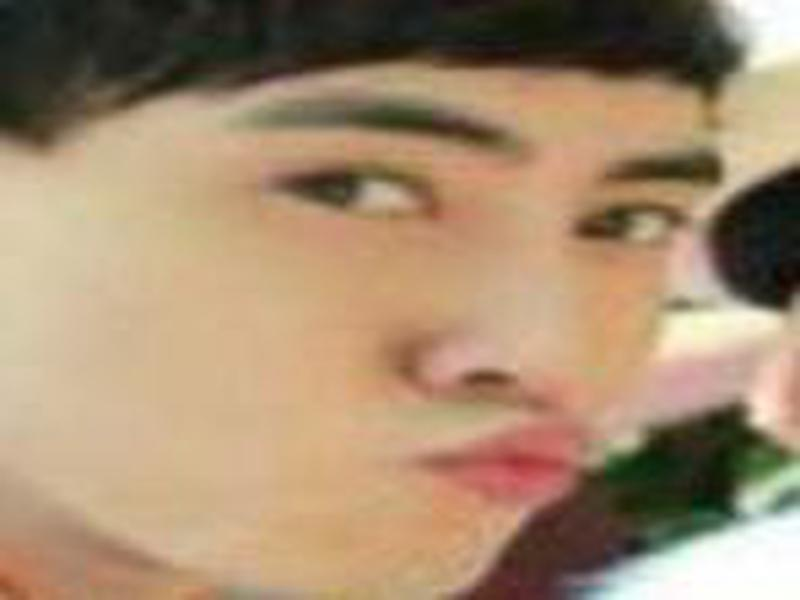without_mask: (8, 53, 721, 600)
